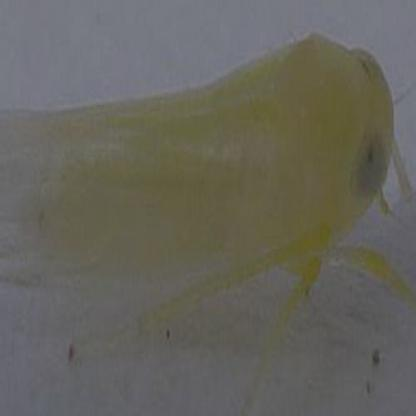green-leafhopper: (3, 53, 386, 275)
